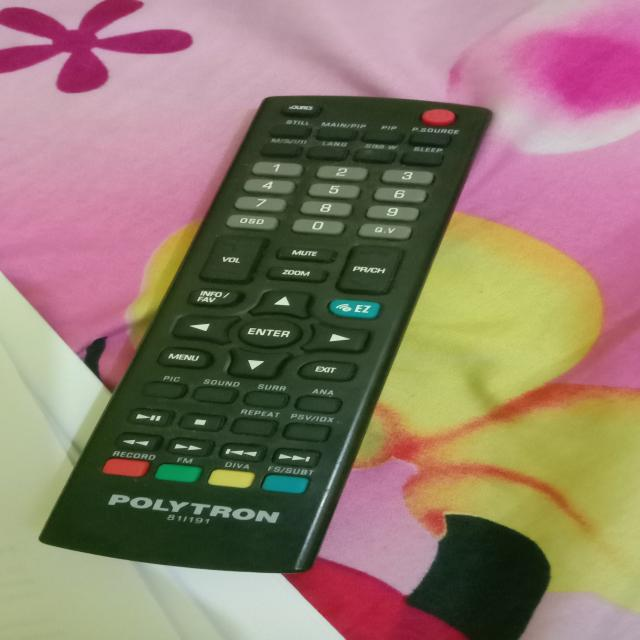remote: (33, 89, 511, 582)
